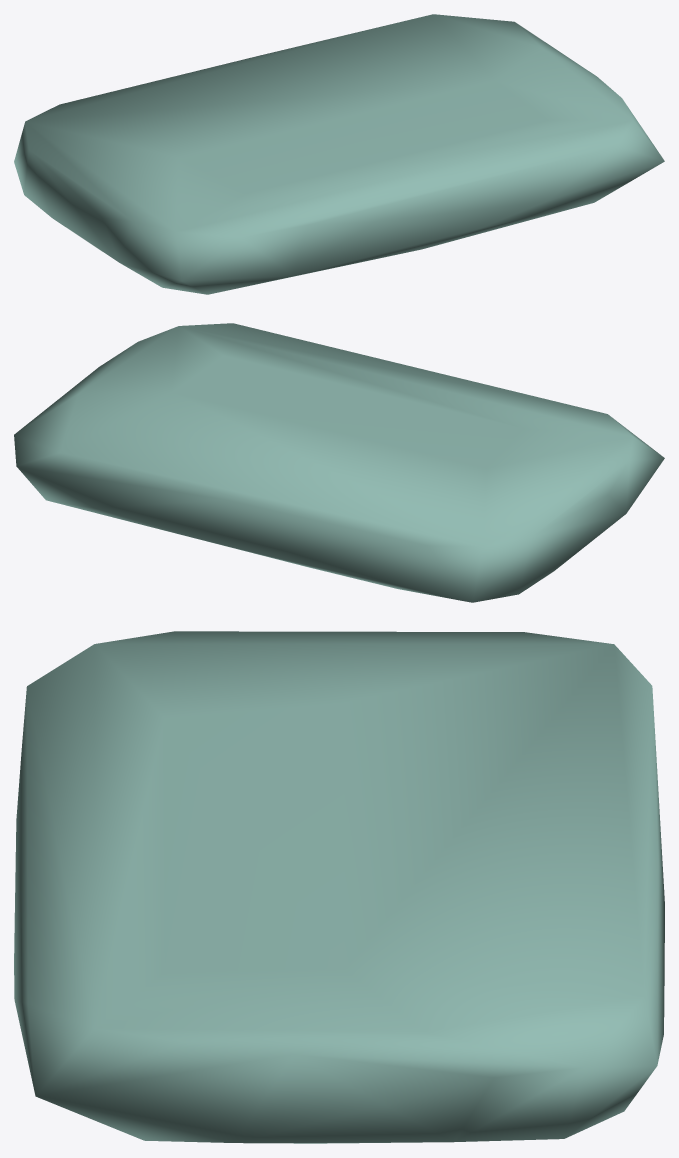
3 views of the same model, one above another, from view 1: azimuth 30°, elevation 25°; view 2: azimuth 150°, elevation 25°; view 3: azimuth 270°, elevation 25° (orthographic). The views are drawn at different scales.
Size of the model in its own units: 1.77 by 0.2149 by 1.14.
